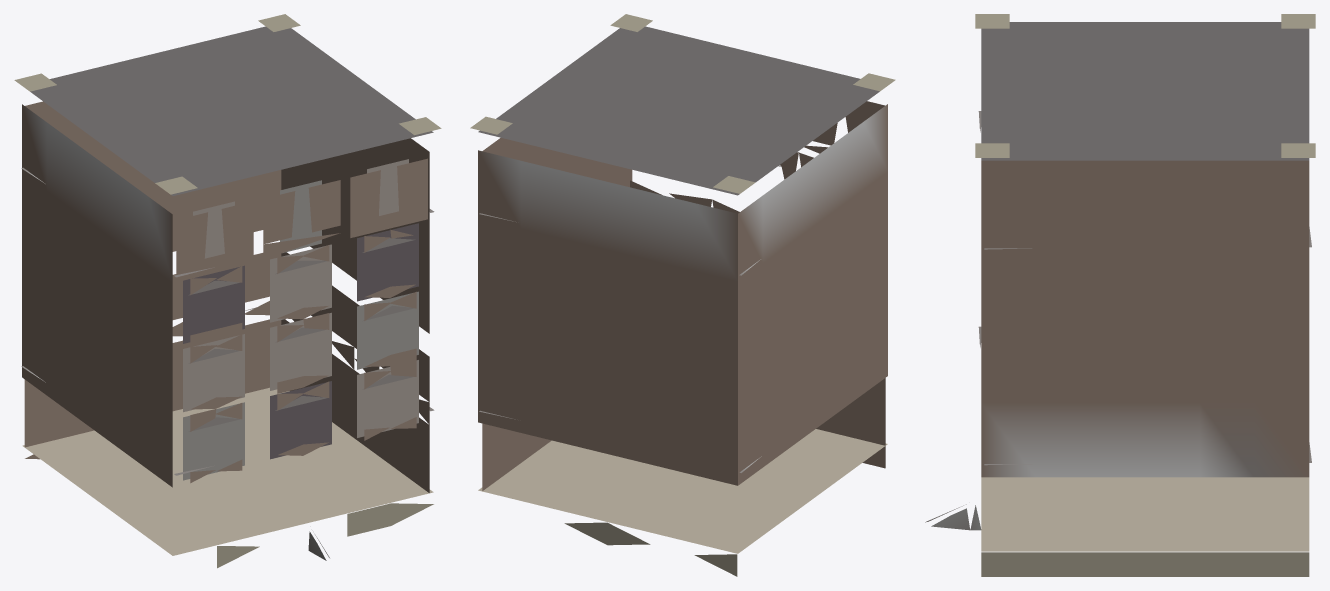
The model's file is downtown_small_lod2.glb.
3 views of the same model, side by side, from view 1: azimuth 30°, elevation 25°; view 2: azimuth 150°, elevation 25°; view 3: azimuth 270°, elevation 25° (orthographic). The views are drawn at different scales.
Visible parts, largest first — view 1: downtown_small_lod2; view 2: downtown_small_lod2; view 3: downtown_small_lod2.
Part boxes in pixels (left/top/right/bottom): downtown_small_lod2: left=14, top=14, right=441, bottom=568; downtown_small_lod2: left=470, top=14, right=895, bottom=576; downtown_small_lod2: left=925, top=14, right=1315, bottom=576.
Bounding box in the file's own units: 12.46 × 17.01 × 14.32.
